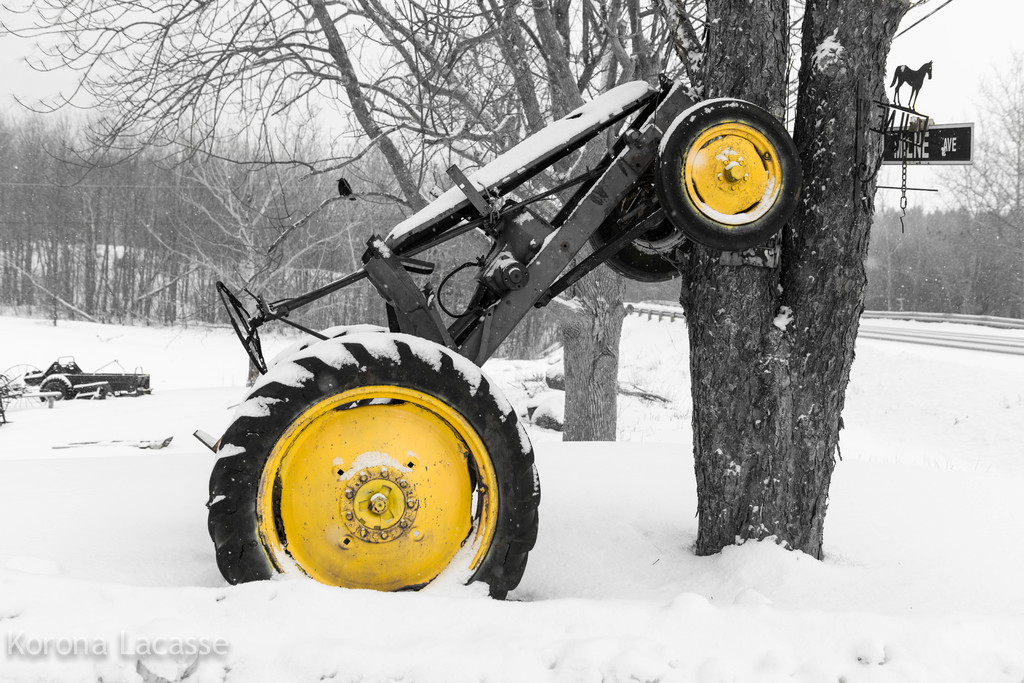Tree: (0, 0, 1023, 560)
